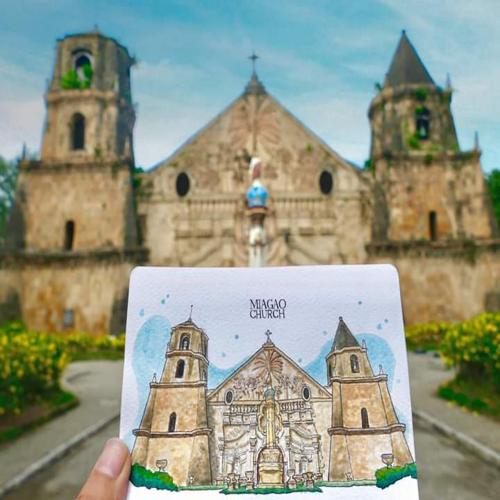Miagao Church: (21, 22, 500, 347), (140, 307, 415, 497)
